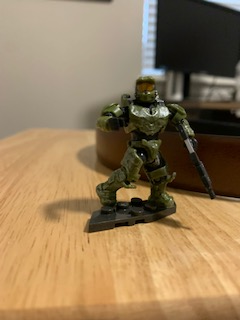chief: (97, 76, 200, 210)
spartan: (95, 74, 198, 208)
